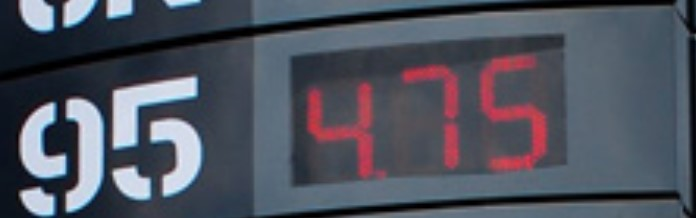digits: (476, 53, 550, 169), (303, 75, 378, 182), (396, 63, 468, 171)
